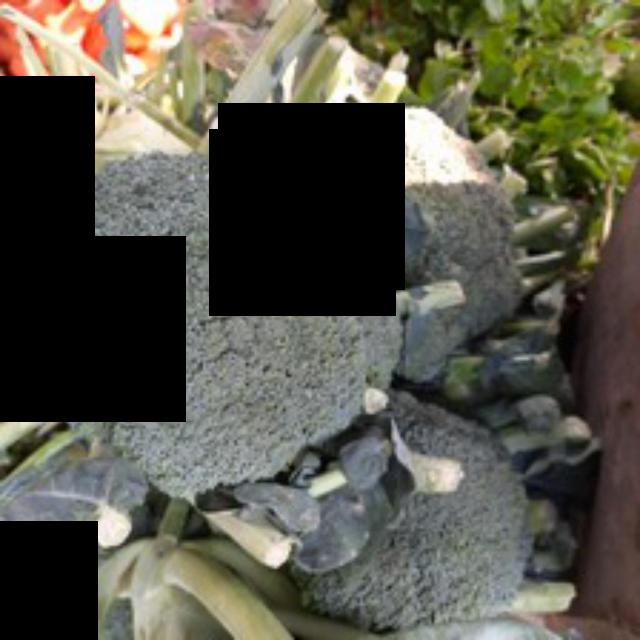broccoli: (21, 138, 409, 499)
